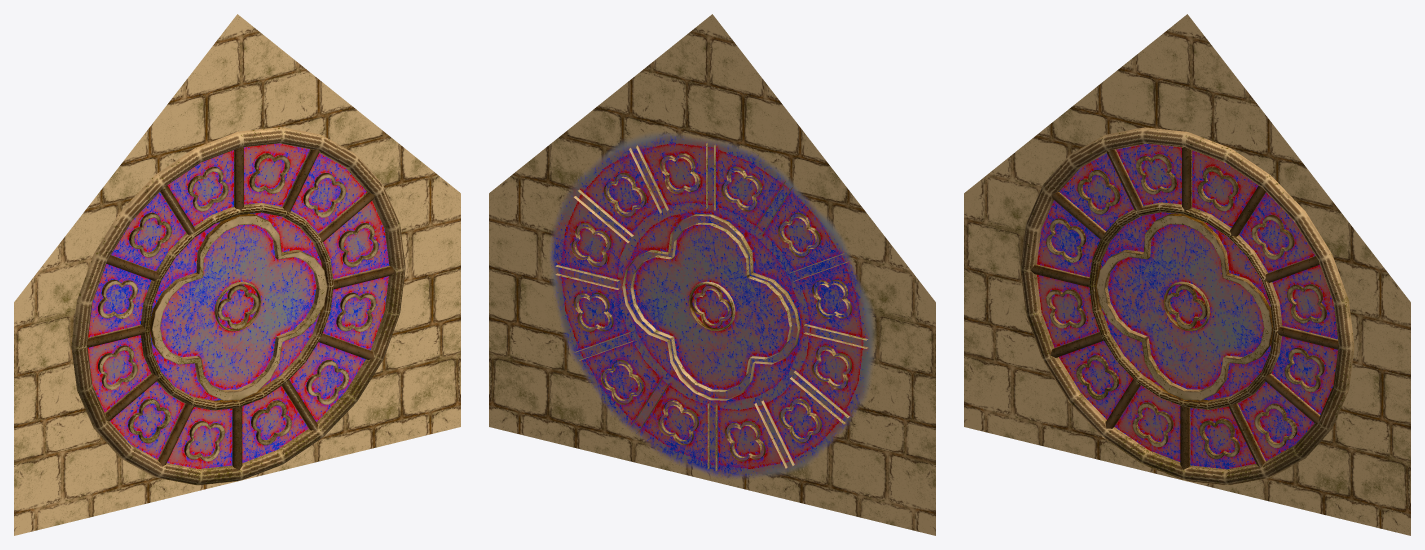
The model's file is SM_Roseton.fbx.
The picture shows the model from 3 angles, left to right: view 1: azimuth 30°, elevation 25°; view 2: azimuth 150°, elevation 25°; view 3: azimuth 330°, elevation 25°; orthographic projection.
Parts seen in each view (by area): view 1: SM_Roseton; view 2: SM_Roseton; view 3: SM_Roseton.
Part boxes in pixels (box(x1,y1,x2,y2)): SM_Roseton: box(14, 14, 460, 535); SM_Roseton: box(489, 14, 935, 535); SM_Roseton: box(964, 14, 1410, 535).
Size of the model in its own units: 600 by 600 by 16.33.
